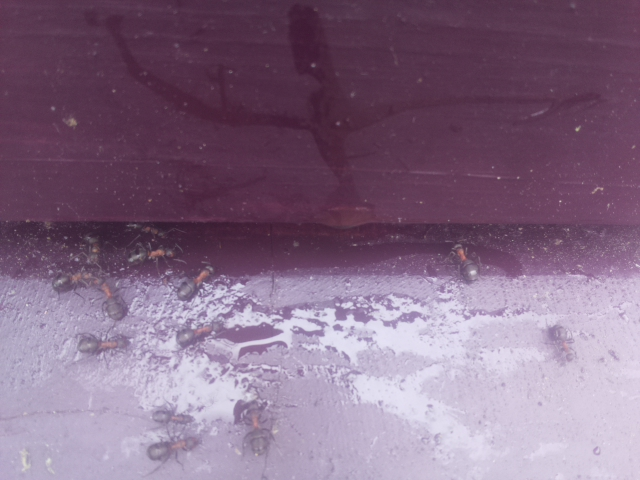ant: (75, 263, 131, 329), (233, 392, 278, 461), (169, 256, 222, 307), (138, 429, 205, 468), (167, 315, 230, 354), (447, 234, 484, 290), (68, 331, 135, 359), (546, 319, 580, 365), (122, 243, 176, 266), (153, 404, 196, 429), (80, 230, 104, 265)
